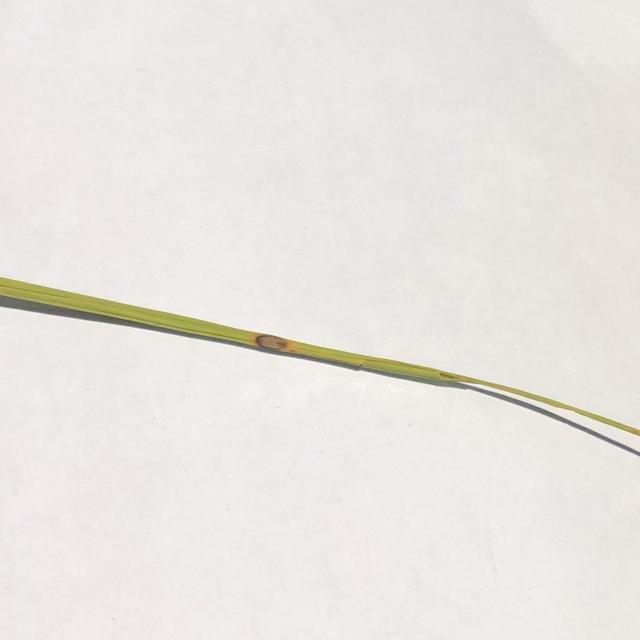Blast: (251, 333, 290, 352)
